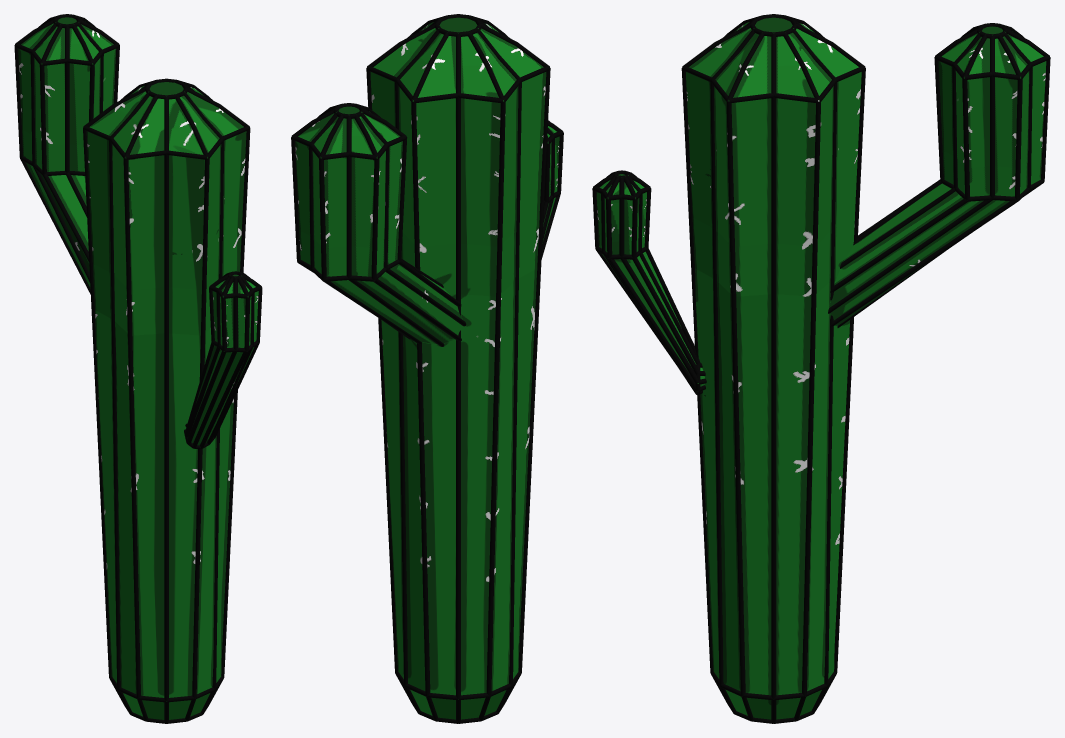
The model's file is cactus1.glb.
The picture shows the model from 3 angles, left to right: view 1: azimuth 30°, elevation 25°; view 2: azimuth 150°, elevation 25°; view 3: azimuth 270°, elevation 25°; orthographic projection. The views are drawn at different scales.
Parts seen in each view (by area): view 1: Cylinder.002; view 2: Cylinder.002; view 3: Cylinder.002.
Boxes of the visible parts, x1,y1,x2,y2 form: Cylinder.002: (14,14,262,723); Cylinder.002: (291,14,563,723); Cylinder.002: (592,14,1050,723).
Bounding box in the file's own units: 0.641 × 3.01 × 1.83.
2 materials, 1 textured.
